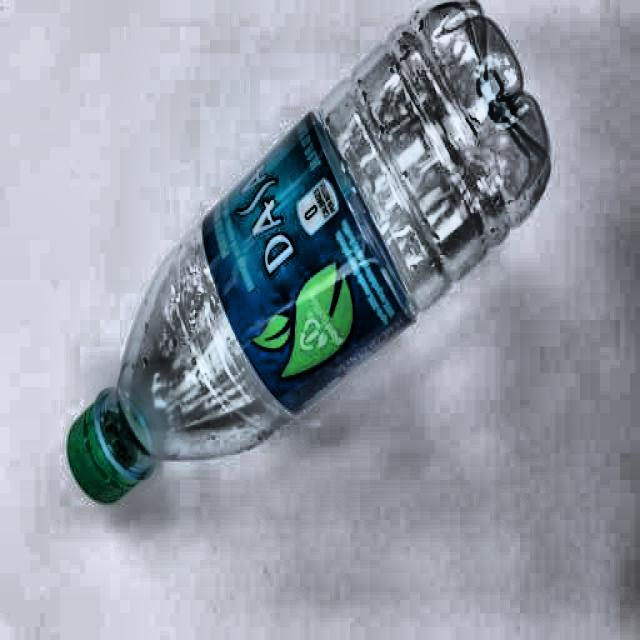plastic: (64, 1, 556, 512)
